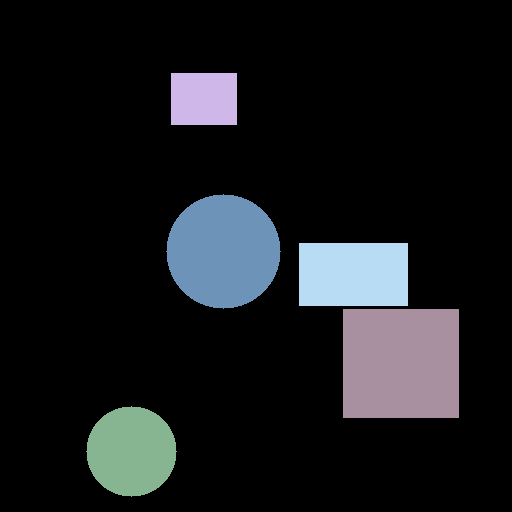circle: (166, 194, 280, 308), (86, 406, 176, 496)
rectangle: (299, 243, 407, 305), (171, 73, 236, 124)
square: (343, 309, 458, 417)
